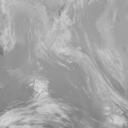cyclone: (32, 32, 99, 98)
